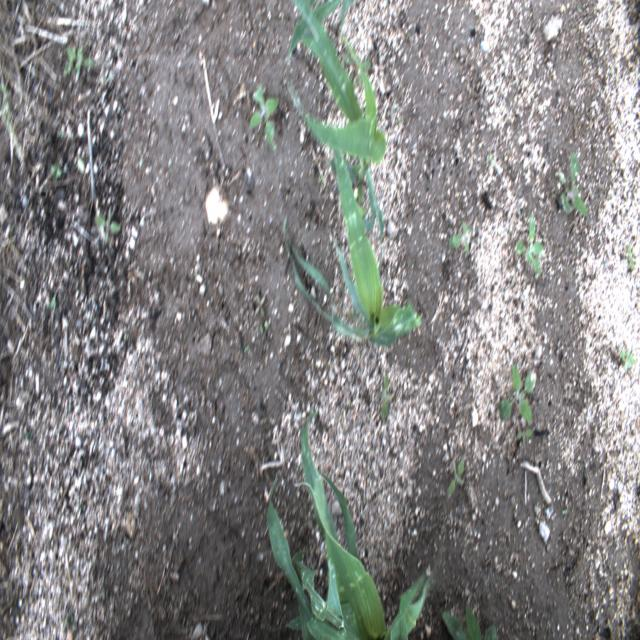crop: (284, 0, 422, 348), (268, 424, 434, 639), (439, 604, 498, 639)
weed: (499, 362, 536, 439), (557, 150, 588, 218), (248, 85, 280, 150), (514, 218, 544, 278), (62, 43, 96, 74), (447, 218, 474, 255), (93, 213, 119, 243), (45, 280, 62, 318), (447, 457, 463, 496), (380, 372, 392, 422), (2, 81, 12, 132), (620, 346, 634, 369), (255, 291, 267, 316), (628, 242, 635, 272), (51, 162, 60, 183), (488, 150, 493, 166)
